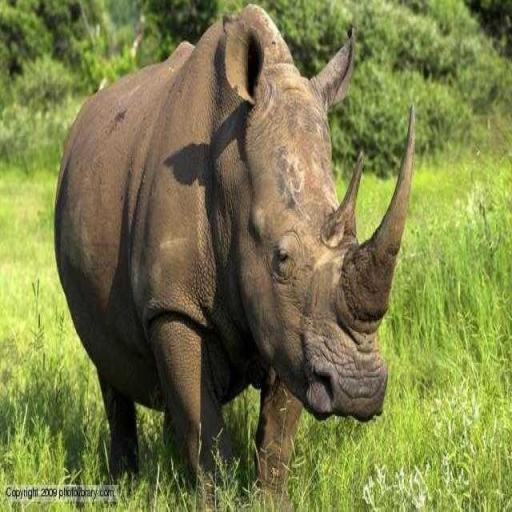Rhino: (53, 3, 416, 504)
